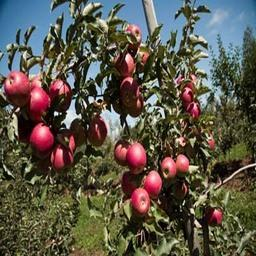apple: (30, 122, 55, 152), (4, 71, 29, 101), (24, 89, 49, 119), (125, 143, 147, 175), (130, 187, 151, 215), (120, 76, 140, 105), (88, 117, 108, 146), (51, 145, 73, 171), (70, 117, 88, 144), (116, 51, 135, 75), (160, 156, 177, 182), (145, 170, 162, 196), (114, 139, 129, 165), (179, 77, 194, 103), (206, 205, 223, 226), (126, 23, 142, 45), (175, 153, 189, 177), (186, 98, 200, 120)
